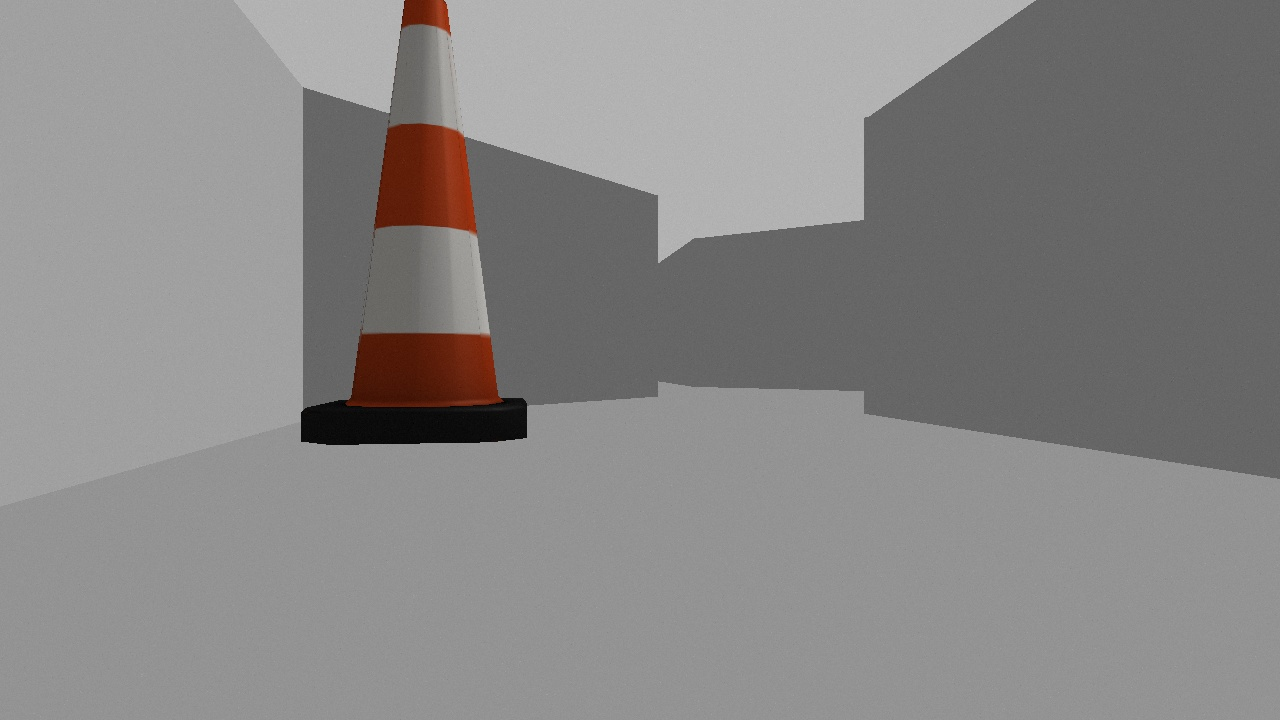barricade: (290, 1, 527, 445)
